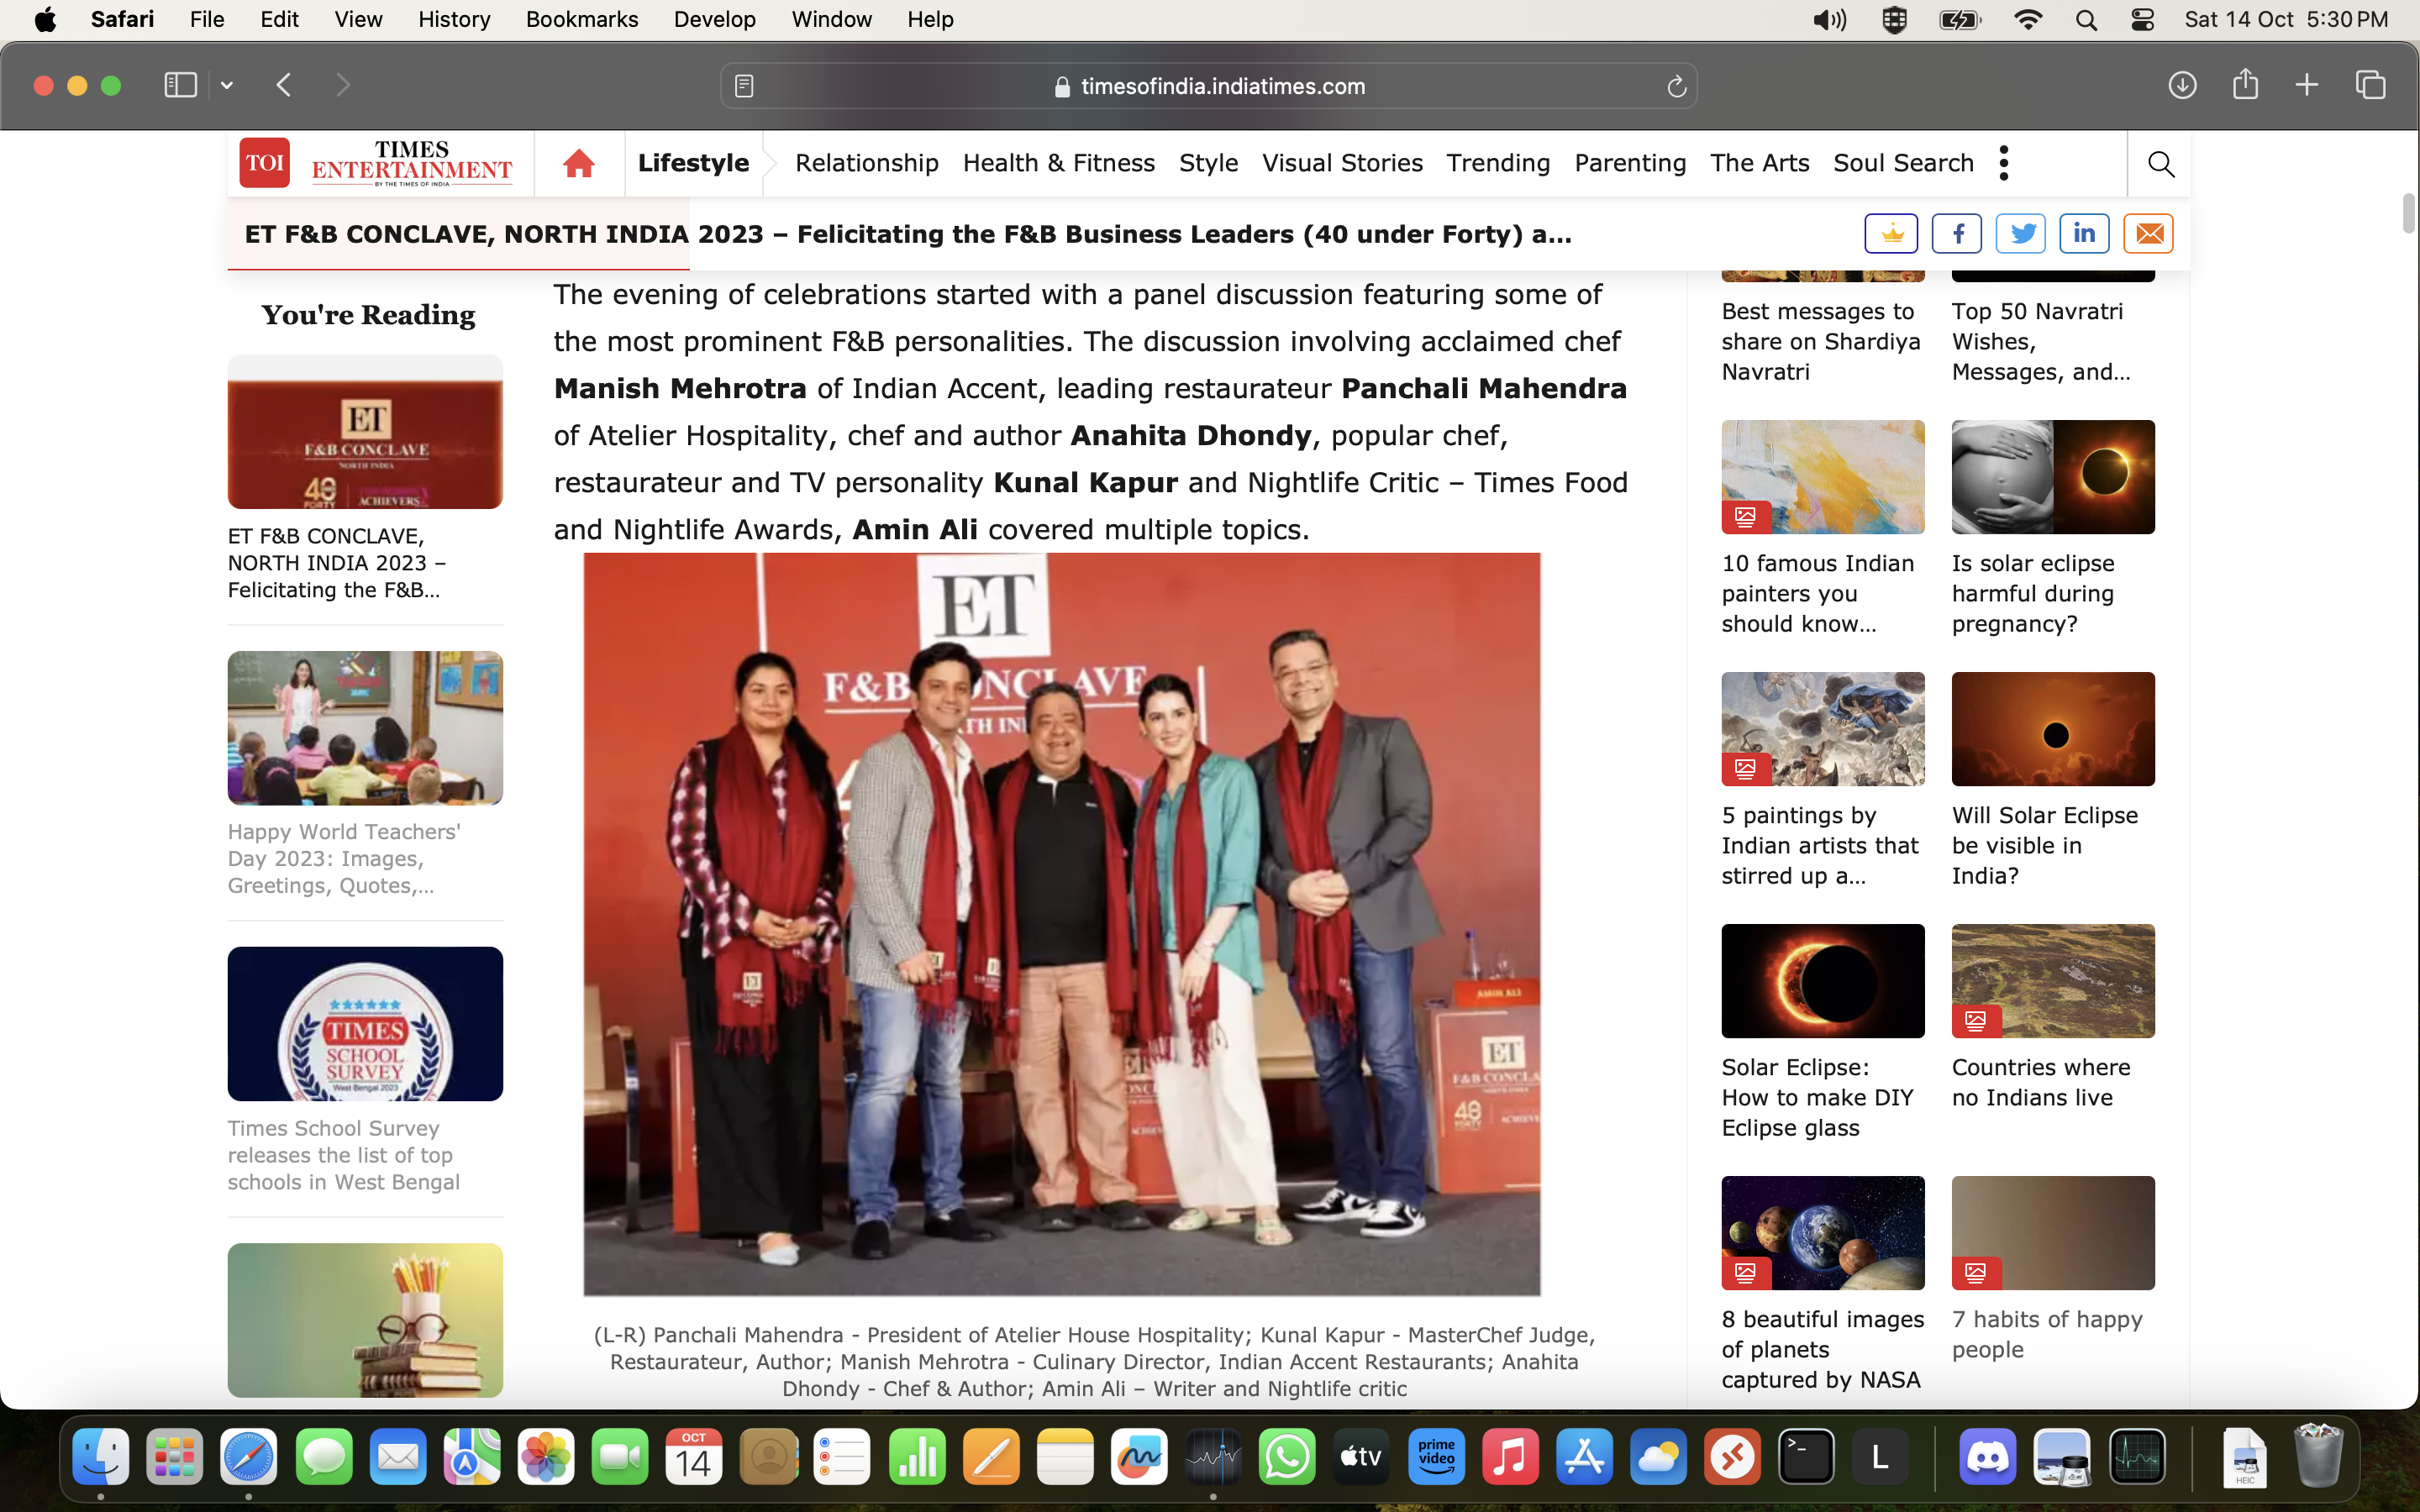Image: (584, 549, 1544, 1303), (220, 347, 504, 510), (230, 641, 500, 807), (233, 949, 504, 1111), (226, 1244, 504, 1395), (1718, 415, 1930, 535), (1941, 1176, 2153, 1293), (1714, 672, 1920, 786), (1725, 918, 1920, 1035), (1714, 1183, 1923, 1286), (1958, 679, 2153, 779), (1955, 932, 2146, 1031), (1969, 422, 2146, 521)
Paragraph: (542, 280, 1650, 549), (591, 1320, 1591, 1402), (1707, 1045, 1927, 1162), (1704, 294, 1930, 397), (1944, 800, 2153, 909), (1700, 1299, 1934, 1395), (1707, 789, 1916, 895), (1937, 538, 2106, 655), (1718, 556, 1923, 651), (1951, 287, 2133, 390), (1948, 1303, 2171, 1381), (1944, 1056, 2146, 1122)
